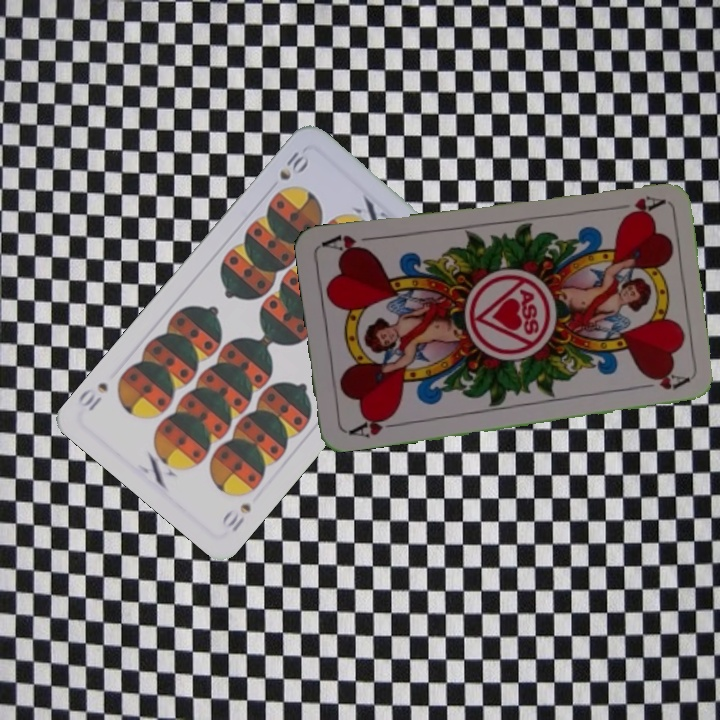HA: (342, 410, 401, 441), (607, 191, 666, 221)
S10: (275, 145, 312, 183), (218, 499, 254, 535)
